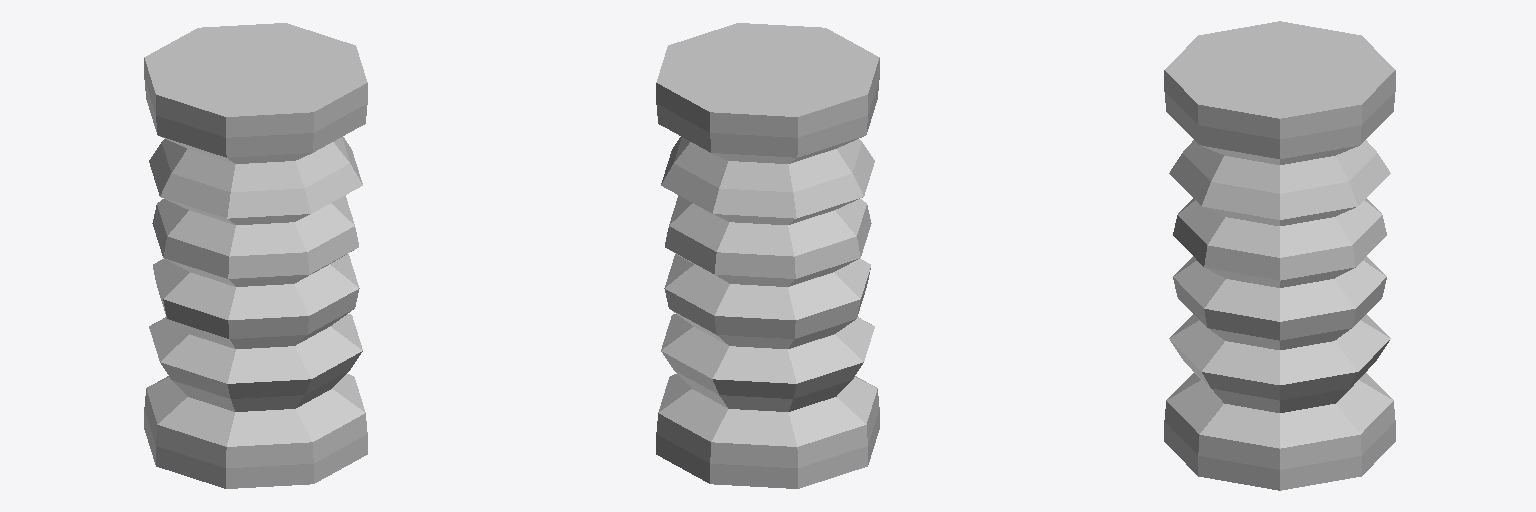
Rendered from Muelle.obj.
3 renders of one model, left to right at view 1: azimuth 30°, elevation 25°; view 2: azimuth 150°, elevation 25°; view 3: azimuth 270°, elevation 25°, orthographic.
Visible parts, largest first — view 1: Hose001; view 2: Hose001; view 3: Hose001.
Part boxes in pixels (bbox=[...]): Hose001: bbox=[144, 23, 367, 488]; Hose001: bbox=[656, 23, 879, 488]; Hose001: bbox=[1164, 21, 1395, 490].
Bounding box in the file's own units: 7.48 × 13.29 × 7.48.